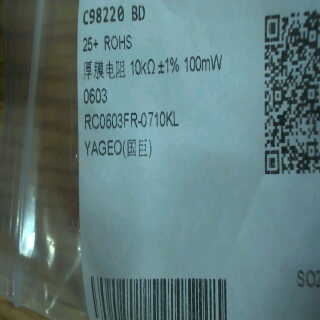10kR: (129, 54, 161, 79)
